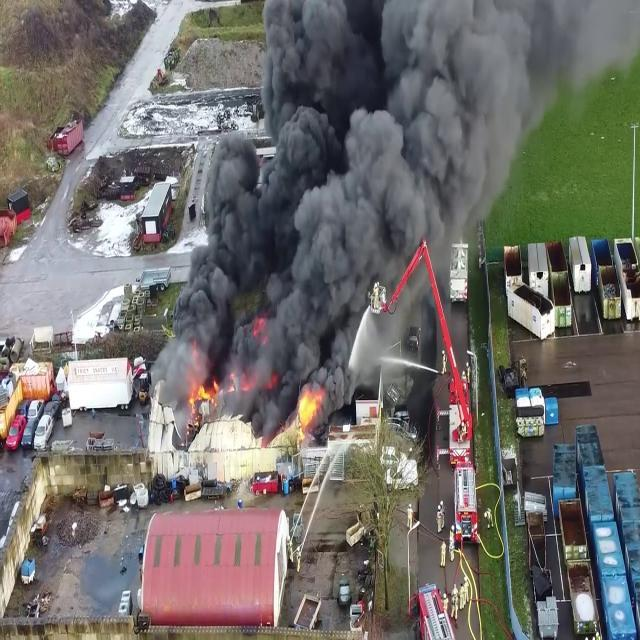Fire: (296, 381, 324, 434), (183, 376, 214, 416)
Smoke: (156, 0, 558, 404)
